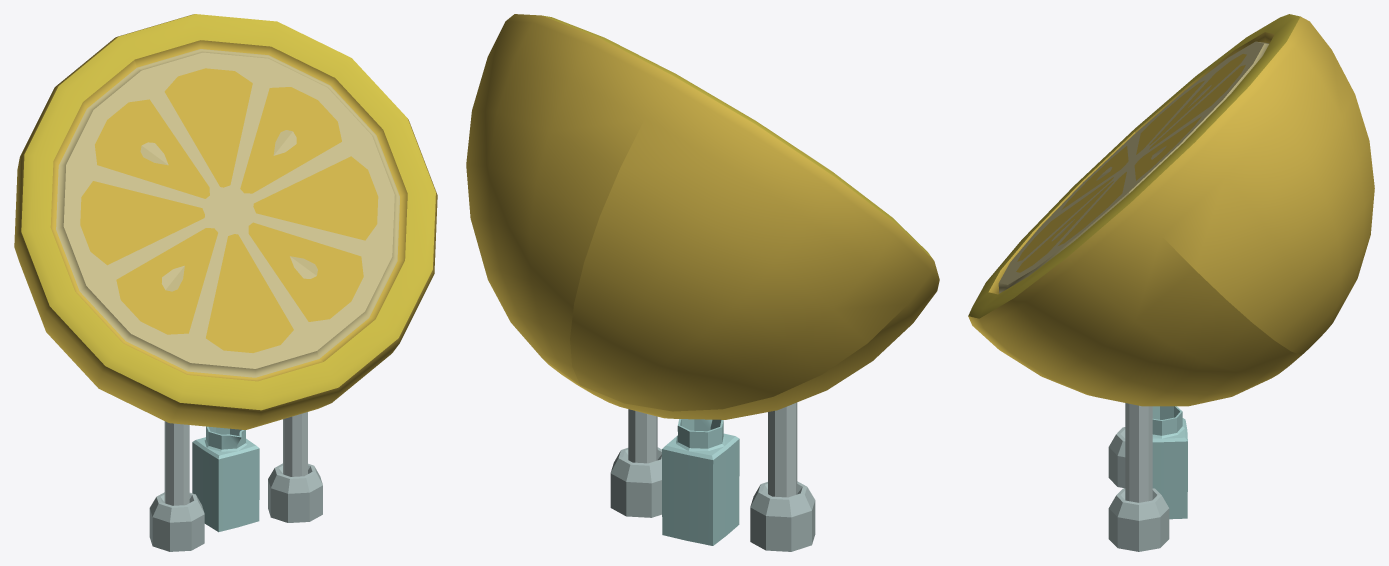
Rendered from lemonStallProps.fbx.
The picture shows the model from 3 angles, left to right: view 1: azimuth 30°, elevation 25°; view 2: azimuth 150°, elevation 25°; view 3: azimuth 270°, elevation 25°; orthographic projection. The views are drawn at different scales.
Parts seen in each view (by area): view 1: lemon, pitcher1; view 2: lemon, pitcher1; view 3: lemon, pitcher1.
Boxes of the visible parts, <box> form: lemon: <box>14,14,437,551</box>; pitcher1: <box>192,426,259,532</box>; lemon: <box>466,14,939,551</box>; pitcher1: <box>662,419,739,545</box>; lemon: <box>968,14,1374,551</box>; pitcher1: <box>1152,406,1187,519</box>.
Bounding box in the file's own units: 120 × 144 × 110.
